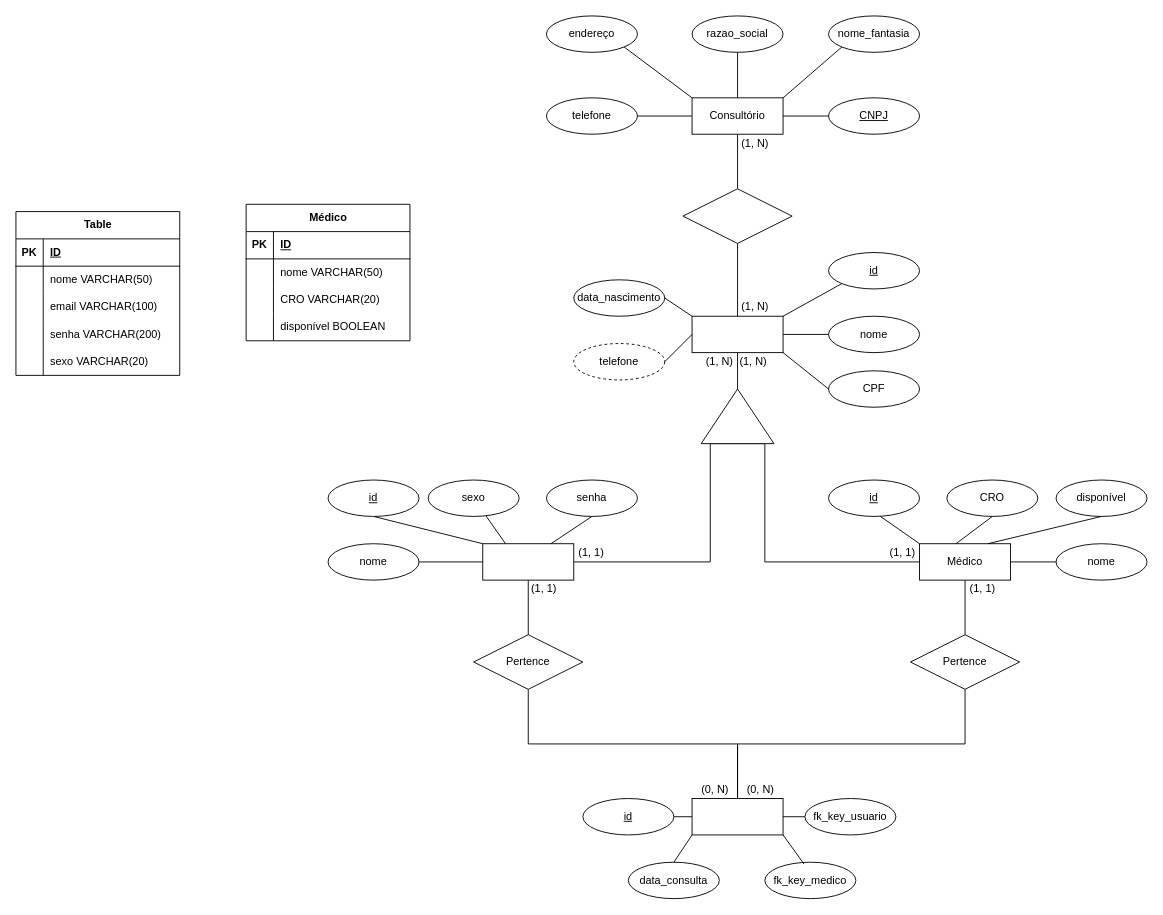
The diagram is 1163 pixels wide and 915 high, and some of its shapes have lost their labels. Here are the shapes that lost their labels. From the top down, the centre of each, then its label:
At (x=737, y=215): "Possui".
At (x=737, y=334): "Pessoa".
At (x=528, y=561): "Usuário".
At (x=737, y=816): "Consultas".
